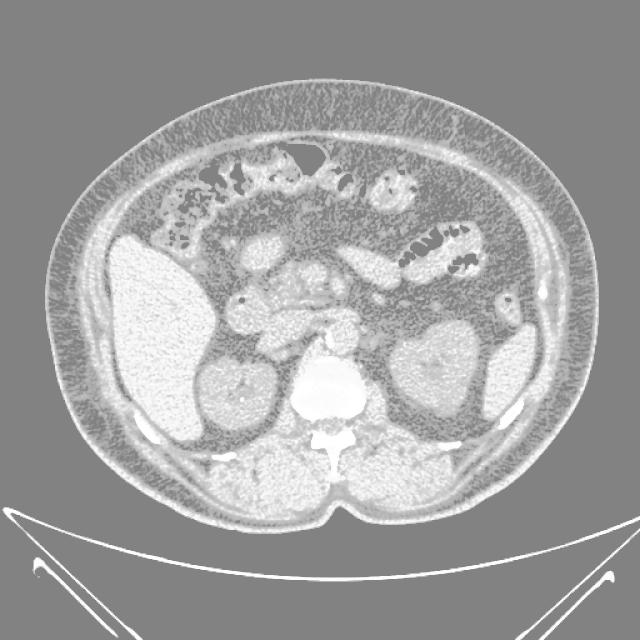STONE: (129, 145, 548, 331)
